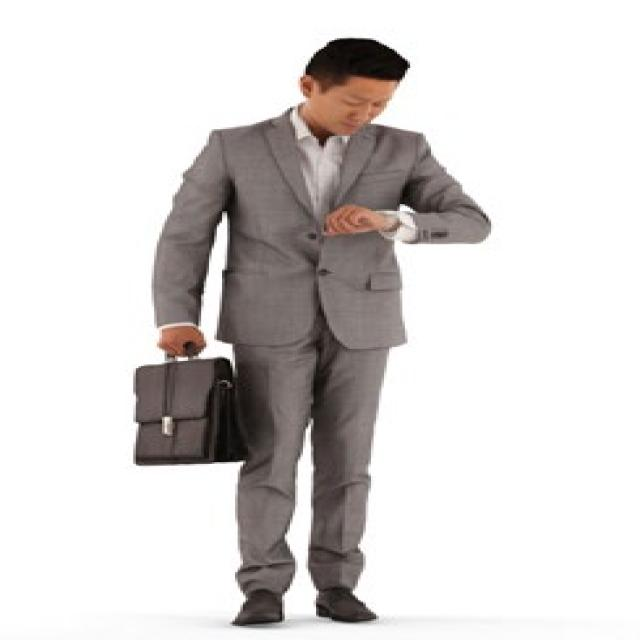standing: (145, 34, 493, 629)
